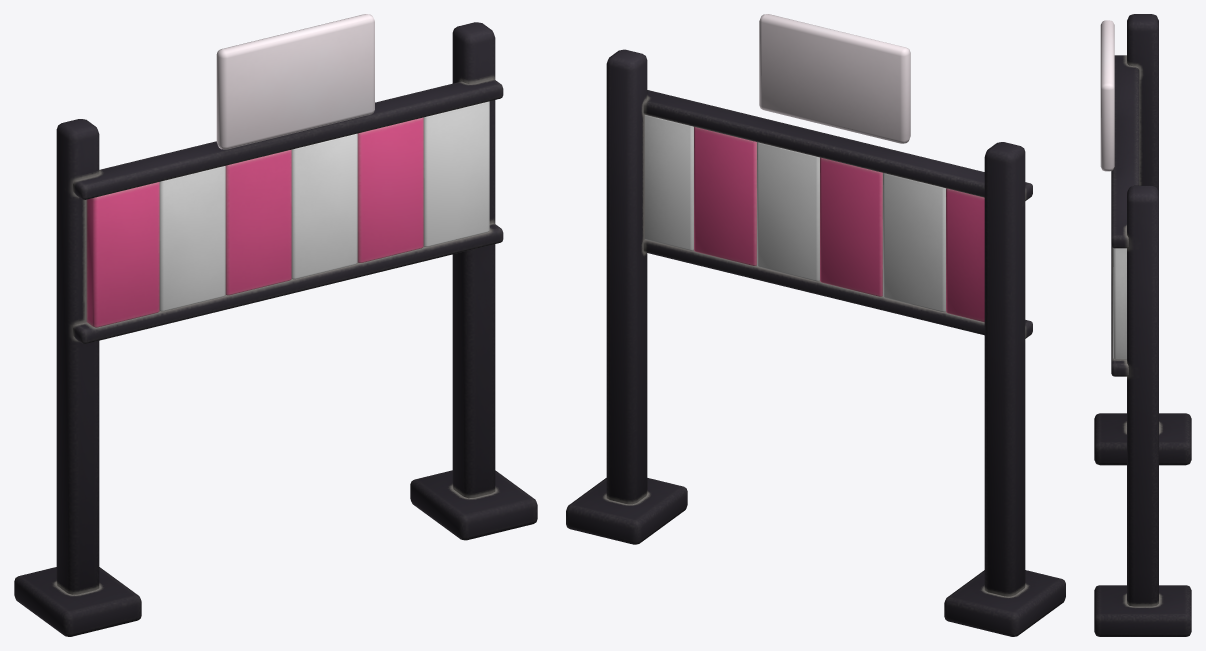
Rendered from rc_barrier_high.glb.
The picture shows the model from 3 angles, left to right: view 1: azimuth 30°, elevation 25°; view 2: azimuth 150°, elevation 25°; view 3: azimuth 270°, elevation 25°; orthographic projection. The views are drawn at different scales.
Parts seen in each view (by area): view 1: rc_barrier_high; view 2: rc_barrier_high; view 3: rc_barrier_high.
Boxes of the visible parts, left/top/right/bottom form: rc_barrier_high: left=14, top=14, right=537, bottom=636; rc_barrier_high: left=566, top=14, right=1065, bottom=636; rc_barrier_high: left=1094, top=14, right=1191, bottom=636.
Size of the model in its own units: 2.75 by 3.03 by 0.55.
4 materials, 4 textured.
